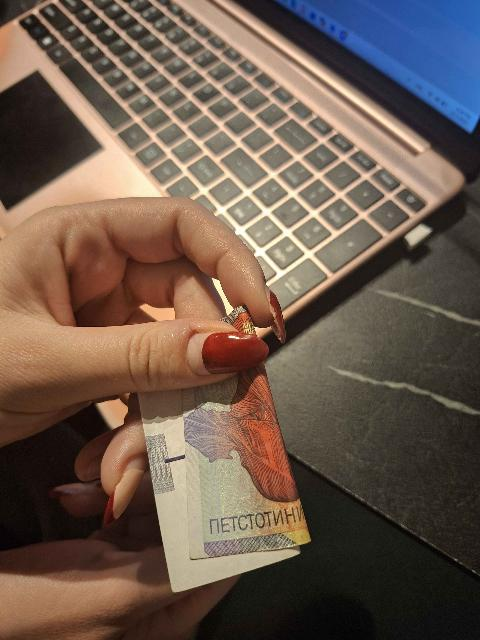note: (131, 365, 321, 587)
